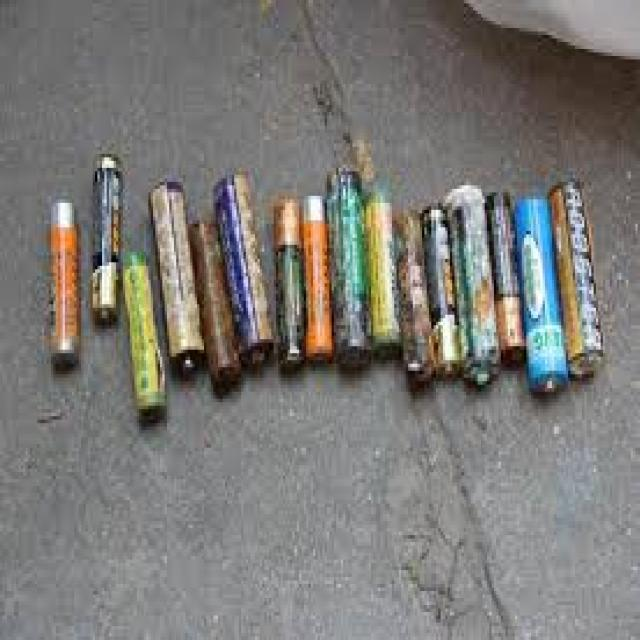non-organic waste: (212, 173, 275, 369), (144, 177, 205, 379), (545, 176, 603, 376), (519, 199, 569, 397), (118, 247, 168, 424), (423, 205, 467, 381), (490, 190, 526, 371), (270, 196, 307, 372), (49, 198, 82, 374), (91, 151, 123, 324)
